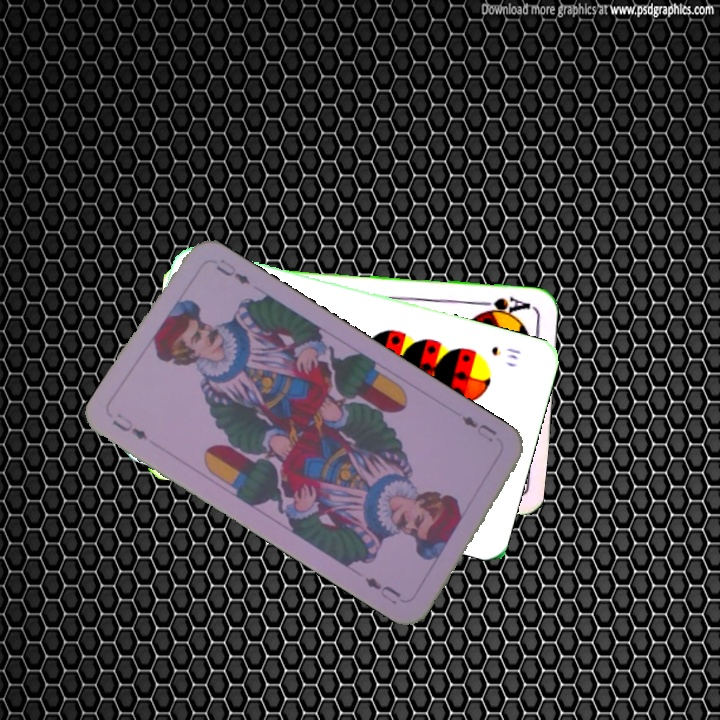EU: (108, 409, 150, 443), (457, 412, 500, 445)
S10: (487, 341, 523, 362)
SA: (476, 292, 536, 319)
